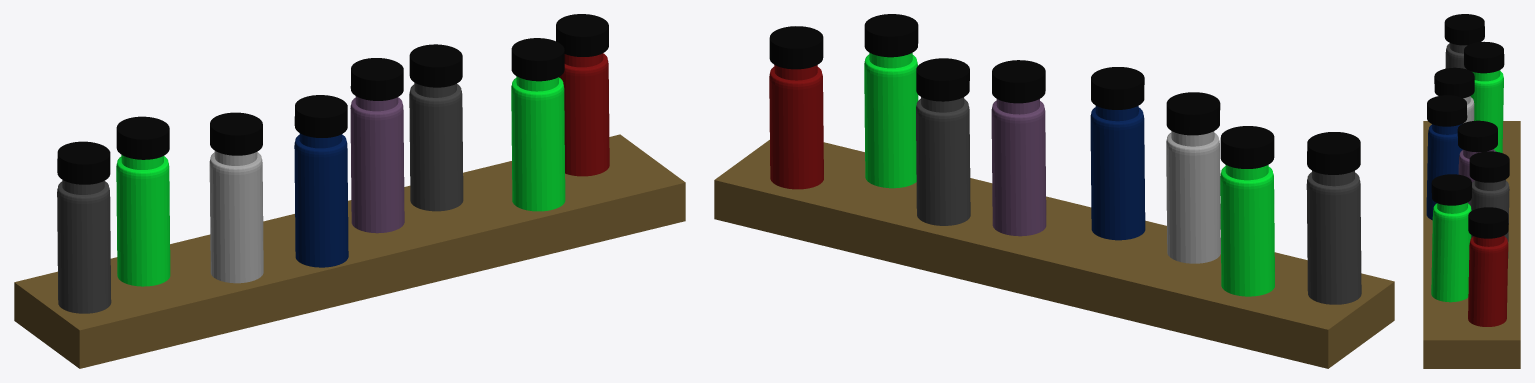
File: Shelf Vials.fbx
3 renders of one model, left to right at view 1: azimuth 30°, elevation 25°; view 2: azimuth 150°, elevation 25°; view 3: azimuth 270°, elevation 25°, orthographic. The views are drawn at different scales.
Parts seen in each view (by area): view 1: Cube, Cylinder.007, Cylinder.003, Cylinder.009, Cylinder.015, Cylinder.011, Cylinder.013, Cylinder.005, Cylinder, Cylinder.016, Cylinder.006, Cylinder.014 (+5 smaller); view 2: Cube, Cylinder.007, Cylinder.009, Cylinder.015, Cylinder.011, Cylinder.013, Cylinder.003, Cylinder.005, Cylinder, Cylinder.001, Cylinder.004, Cylinder.012 (+5 smaller); view 3: Cube, Cylinder.003, Cylinder, Cylinder.009, Cylinder.013, Cylinder.006, Cylinder.001, Cylinder.004, Cylinder.010, Cylinder.014, Cylinder.008, Cylinder.016 (+5 smaller).
Boxes of the visible parts, box(x1,y1,x2,y2) form: Cube: box(14, 134, 685, 368); Cylinder.007: box(350, 96, 404, 233); Cylinder.003: box(511, 76, 565, 211); Cylinder.009: box(294, 133, 348, 267); Cylinder.015: box(57, 180, 111, 313); Cylinder.011: box(209, 151, 263, 283); Cylinder.013: box(116, 154, 170, 286); Cylinder.005: box(409, 82, 463, 211); Cylinder: box(559, 53, 609, 176); Cylinder.016: box(57, 141, 110, 184); Cylinder.006: box(409, 44, 462, 87); Cylinder.014: box(116, 116, 169, 159); Cube: box(714, 140, 1394, 368); Cylinder.007: box(991, 99, 1046, 236); Cylinder.009: box(1090, 106, 1145, 240); Cylinder.015: box(1306, 170, 1361, 304); Cylinder.011: box(1166, 131, 1220, 263); Cylinder.013: box(1220, 164, 1274, 296); Cylinder.003: box(864, 53, 918, 188); Cylinder.005: box(916, 97, 970, 225); Cylinder: box(769, 65, 823, 189); Cylinder.001: box(769, 26, 823, 69); Cylinder.004: box(864, 14, 918, 57); Cylinder.012: box(1166, 92, 1220, 135); Cube: box(1423, 121, 1520, 368); Cylinder.003: box(1431, 202, 1471, 302); Cylinder: box(1468, 235, 1508, 326); Cylinder.009: box(1426, 123, 1462, 220); Cylinder.013: box(1470, 70, 1503, 152); Cylinder.006: box(1469, 151, 1509, 182); Cylinder.001: box(1468, 207, 1508, 238); Cylinder.004: box(1431, 174, 1471, 205); Cylinder.010: box(1427, 95, 1467, 126); Cylinder.014: box(1464, 41, 1504, 73); Cylinder.008: box(1457, 120, 1497, 152); Cylinder.016: box(1444, 14, 1484, 45).
Bounding box in the file's own units: 1068 × 322 × 200.
